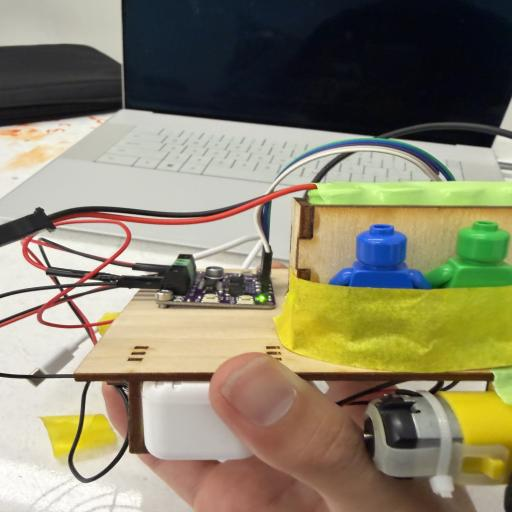Blue-Lego: (330, 223, 430, 289)
Green-Lego: (426, 217, 512, 337)
